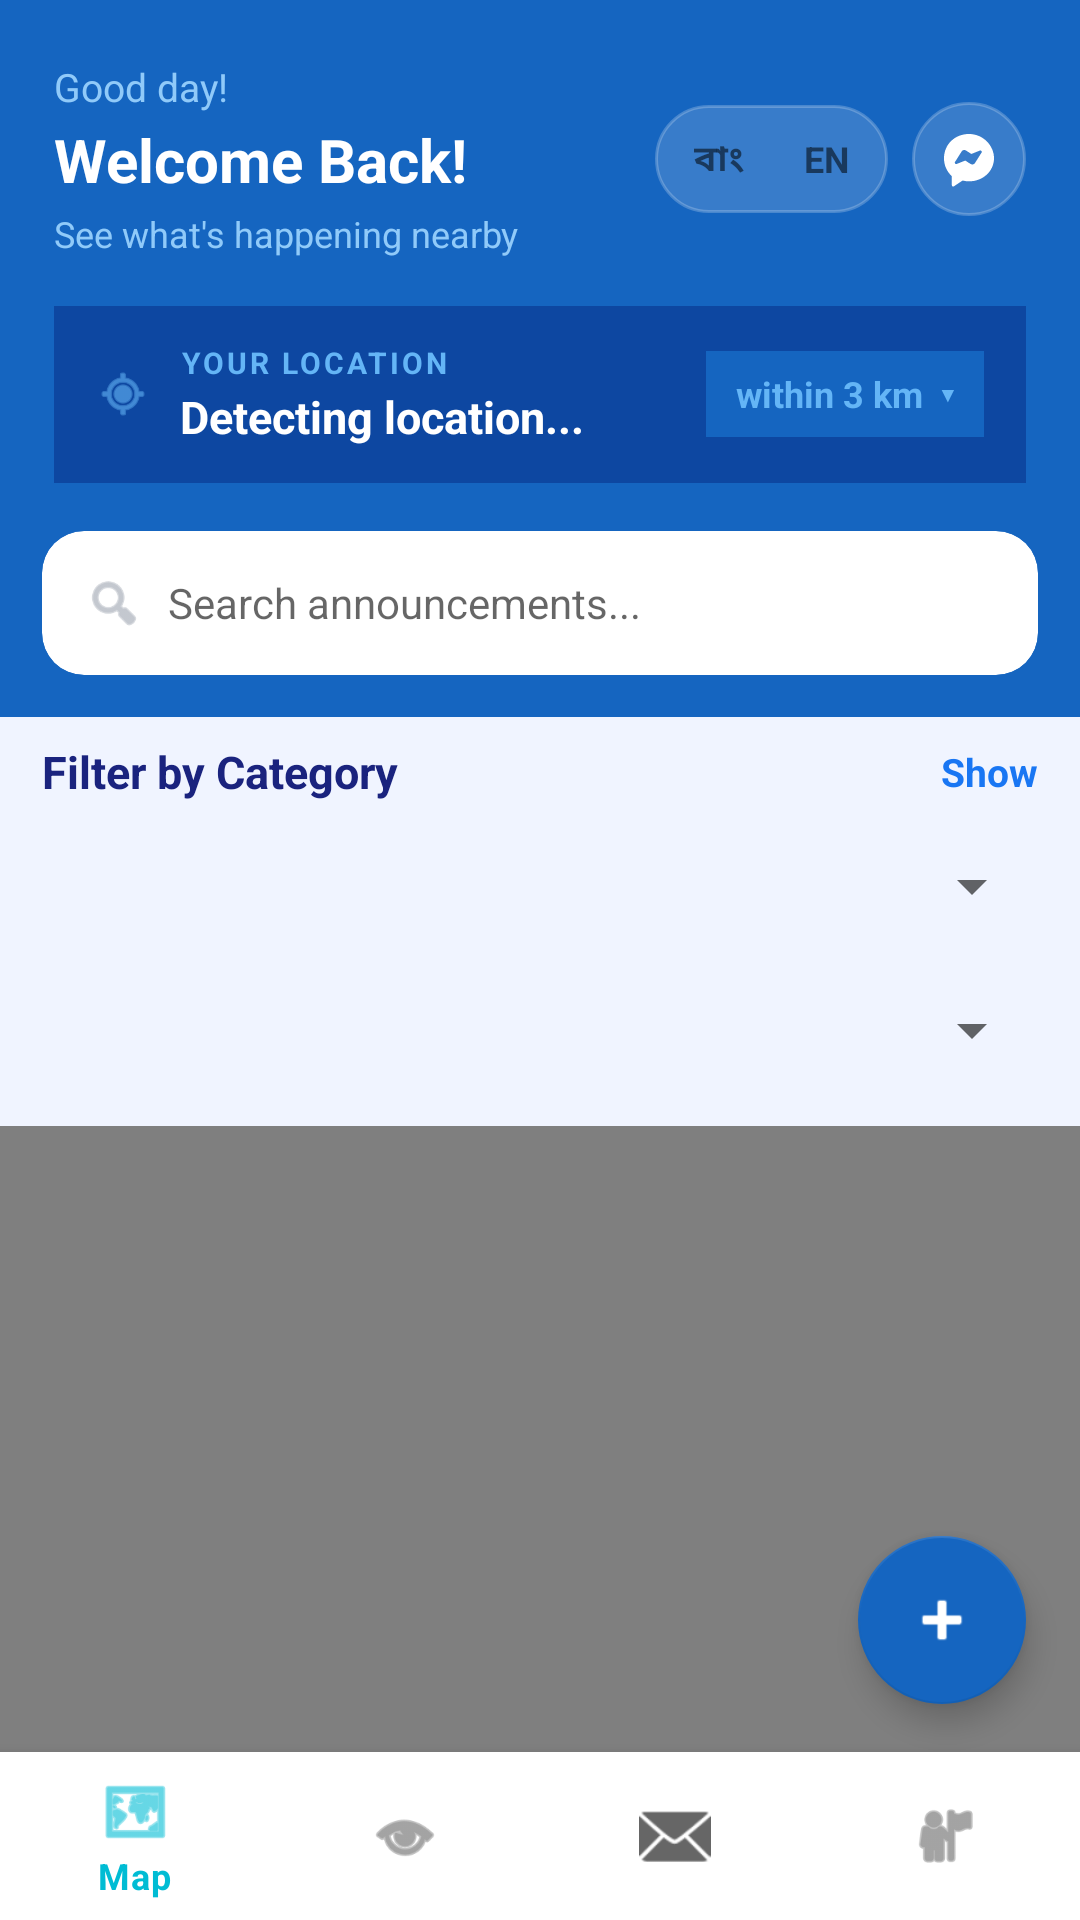

Screen size 1080×1920. Icon name, then its box in pixels as (x1, y1, x2, y2):
Add post: (858, 1536, 1026, 1704)
